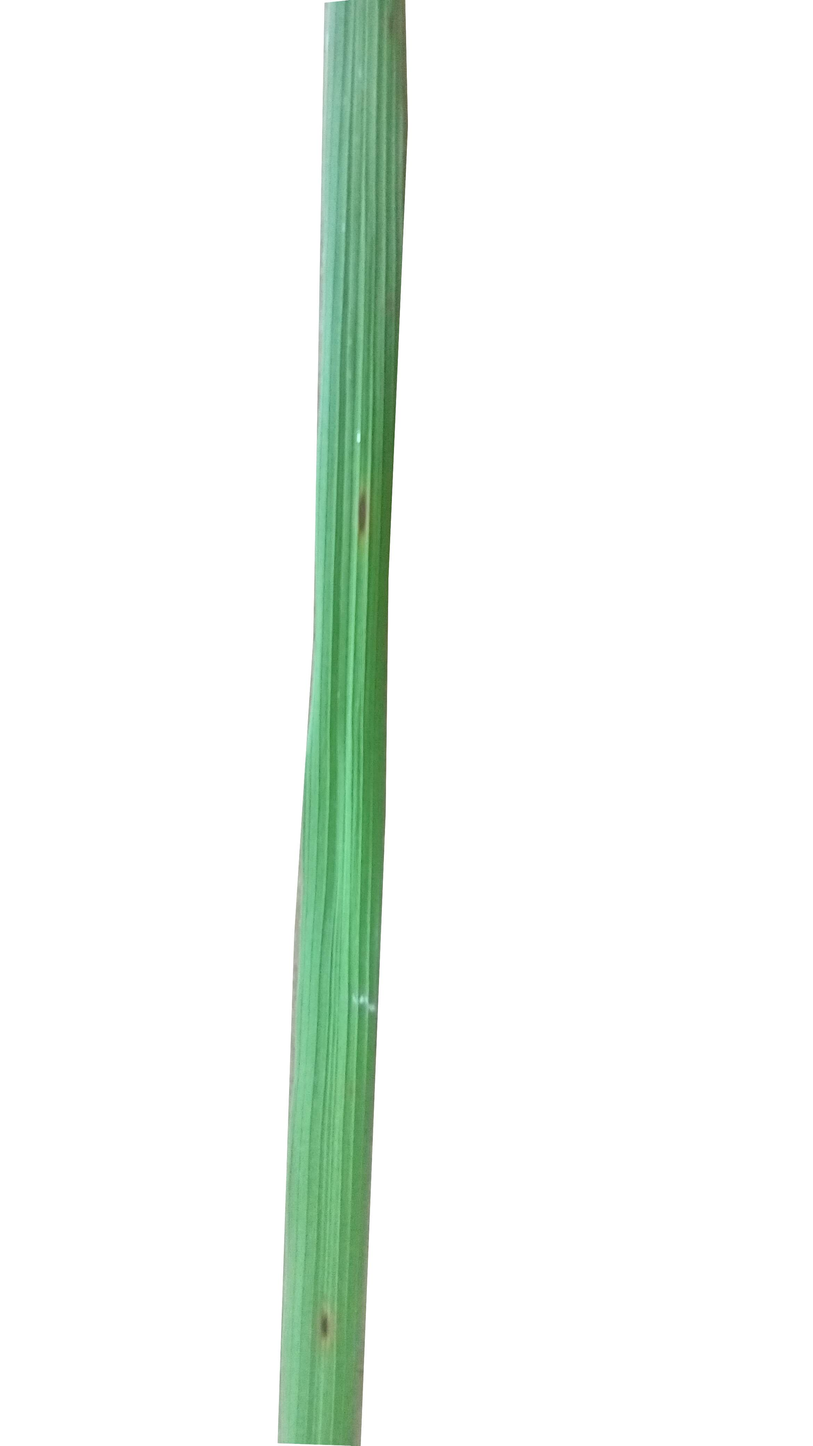Brown spot: (347, 487, 389, 570)
